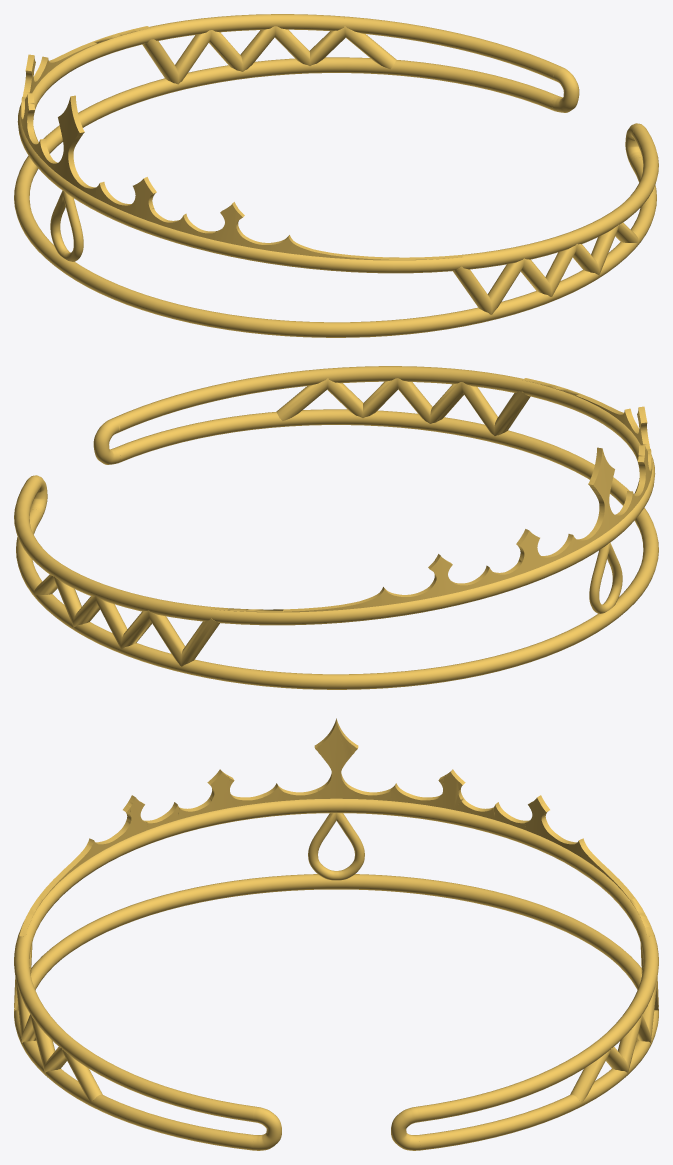
File: 7-gold.fbx
3 renders of one model, top to bottom at view 1: azimuth 30°, elevation 25°; view 2: azimuth 150°, elevation 25°; view 3: azimuth 270°, elevation 25°, orthographic.
Visible parts, largest first — view 1: Arc002, crown, Line002, Line001, Line003; view 2: Arc002, crown, Line001, Line002, Line003; view 3: Arc002, crown, Line002, Line001, Line003.
Boxes of the visible parts, x1,y1,x2,y2 form: Arc002: (14,14,658,337); crown: (20,26,462,260); Line002: (142,26,396,84); Line001: (453,213,638,314); Line003: (50,190,83,261); Arc002: (14,366,658,689); crown: (210,378,652,612); Line001: (276,378,530,435); Line002: (34,565,219,666); Line003: (589,542,622,613); Arc002: (14,798,658,1150); crown: (19,718,653,936); Line002: (570,943,658,1102); Line001: (14,943,102,1102); Line003: (308,813,364,880).
Size of the model in its own units: 20.32 by 6.09 by 20.5.
